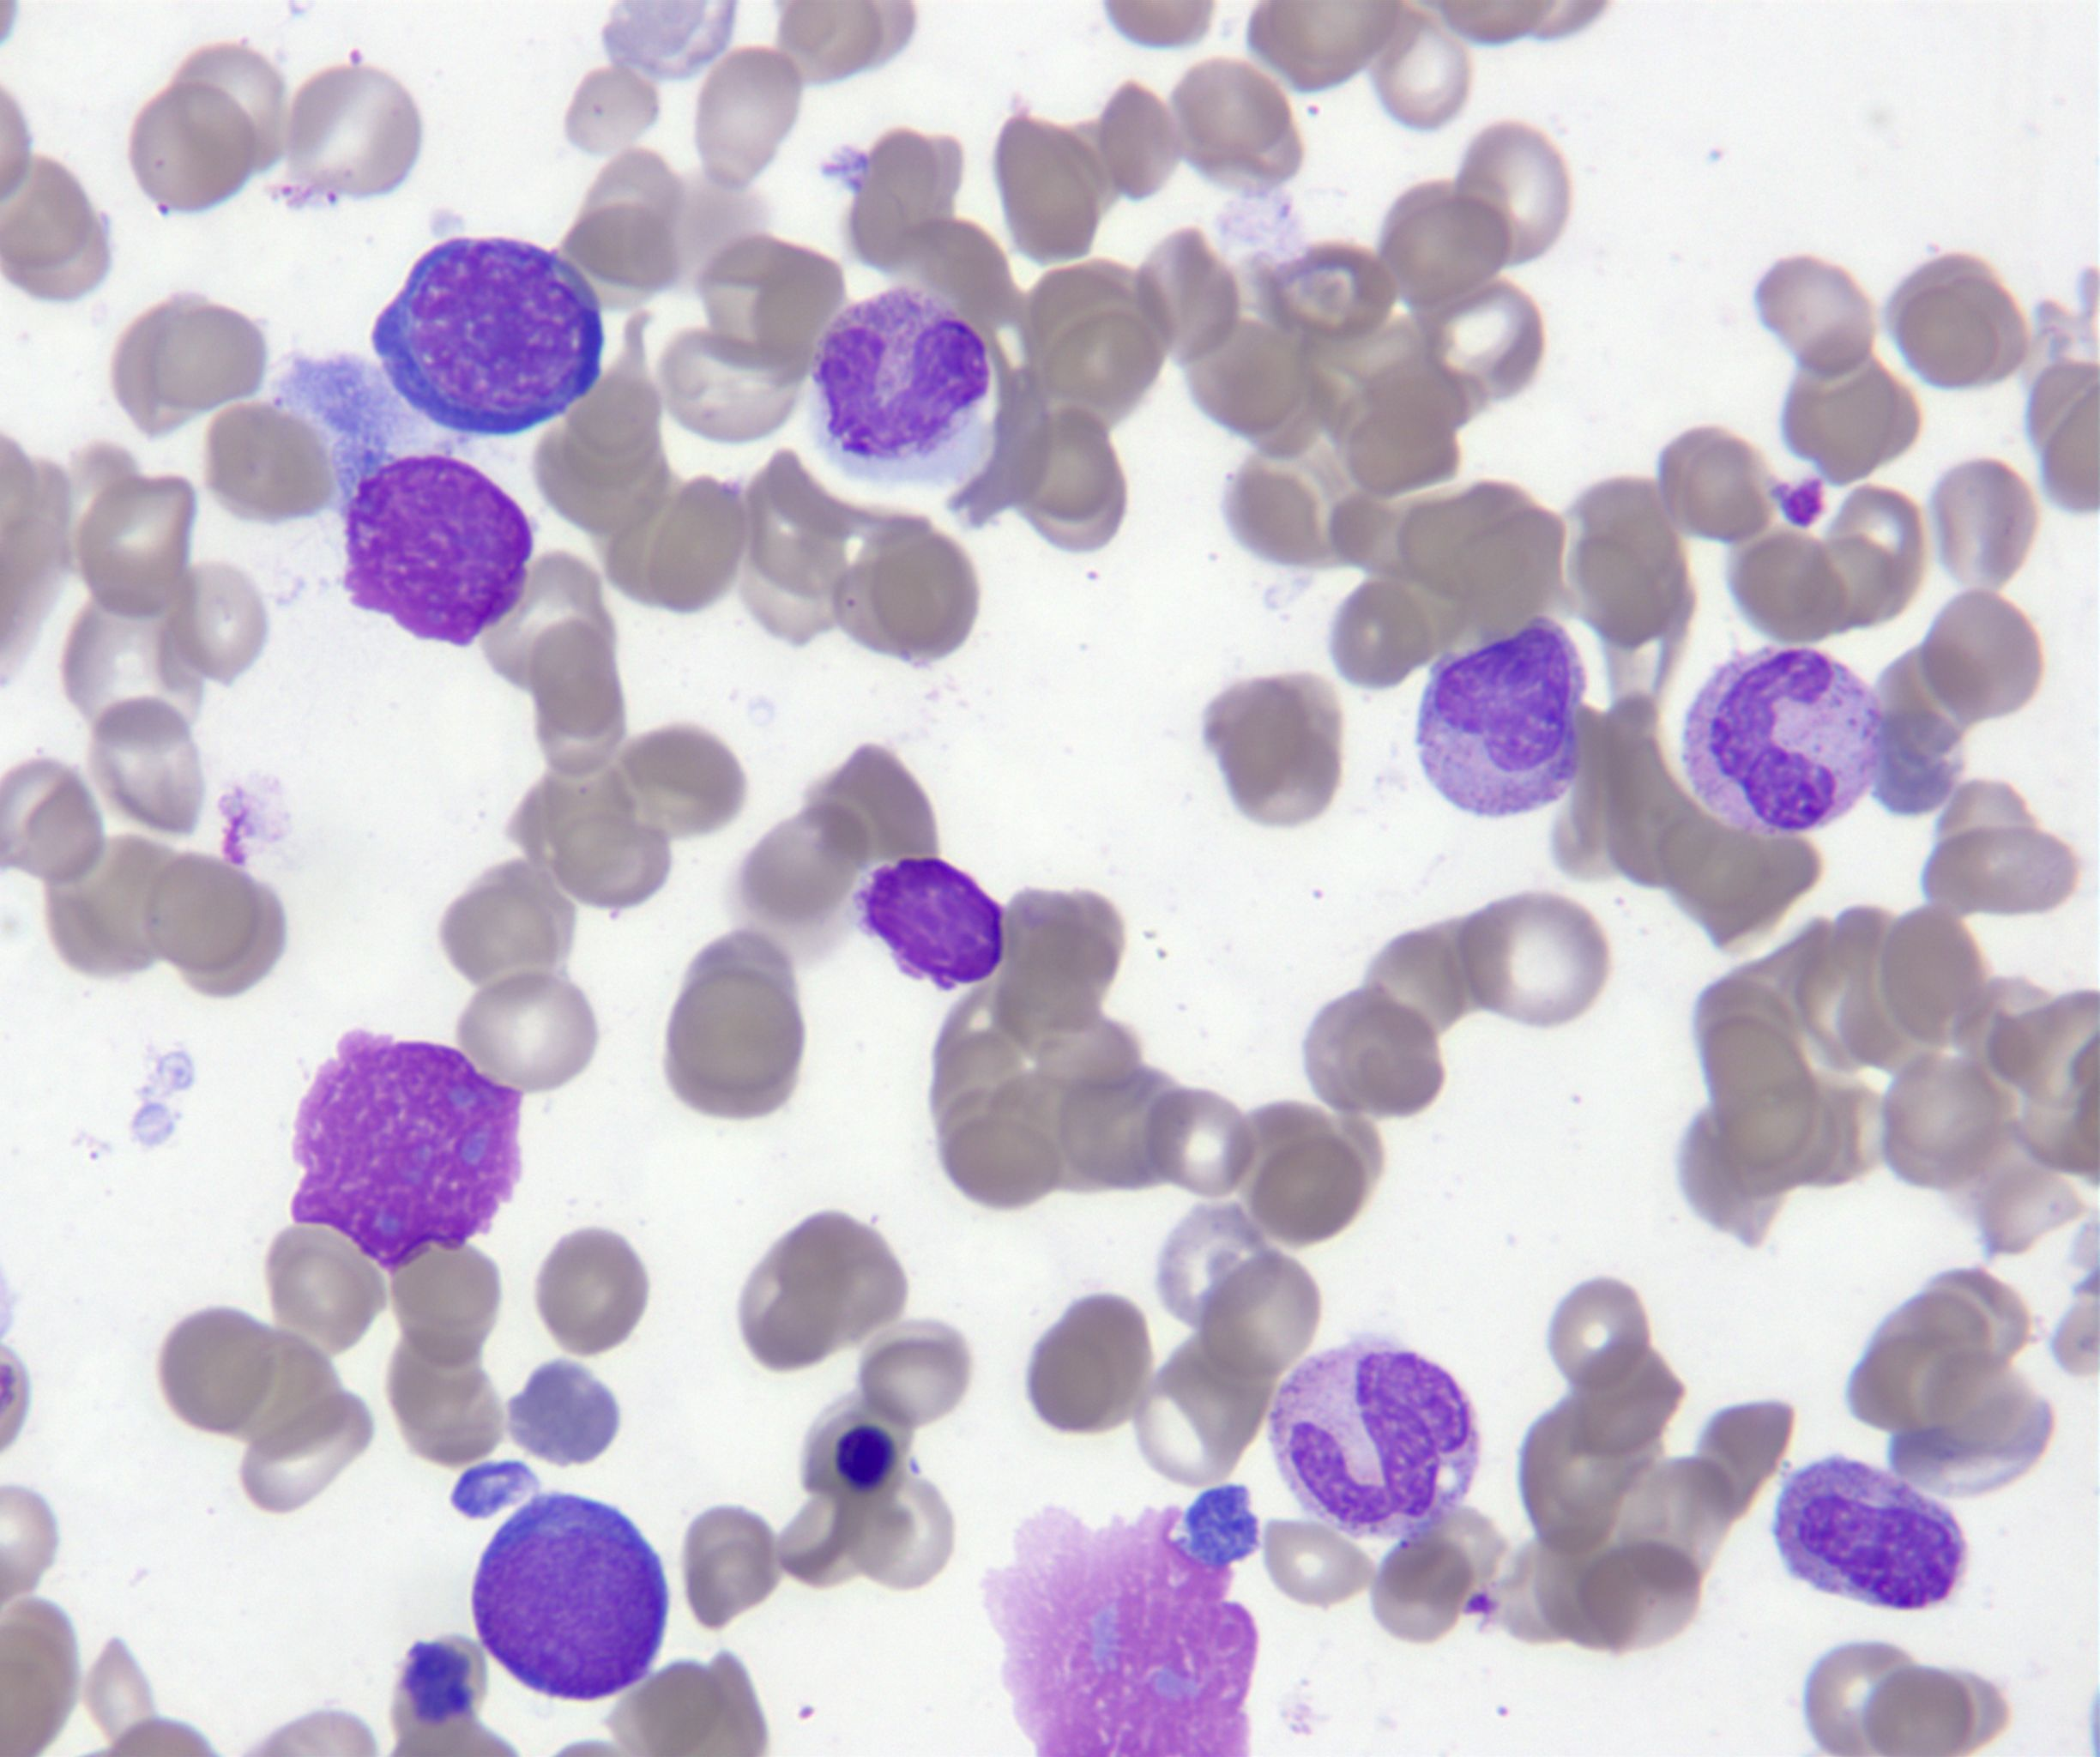1: (473, 1495, 666, 1699)
23: (375, 237, 602, 431)
24: (834, 1431, 895, 1487)
4: (1776, 1460, 1966, 1607)
5: (1683, 649, 1884, 837), (809, 288, 991, 482)
6: (1268, 1337, 1476, 1539), (1416, 619, 1580, 817)
x: (984, 1504, 1256, 1757), (293, 1035, 523, 1272), (345, 457, 532, 647), (865, 857, 1003, 988)
